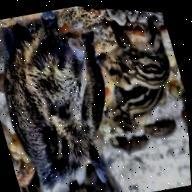boar: (0, 3, 136, 192), (81, 7, 185, 108), (103, 78, 173, 144)
